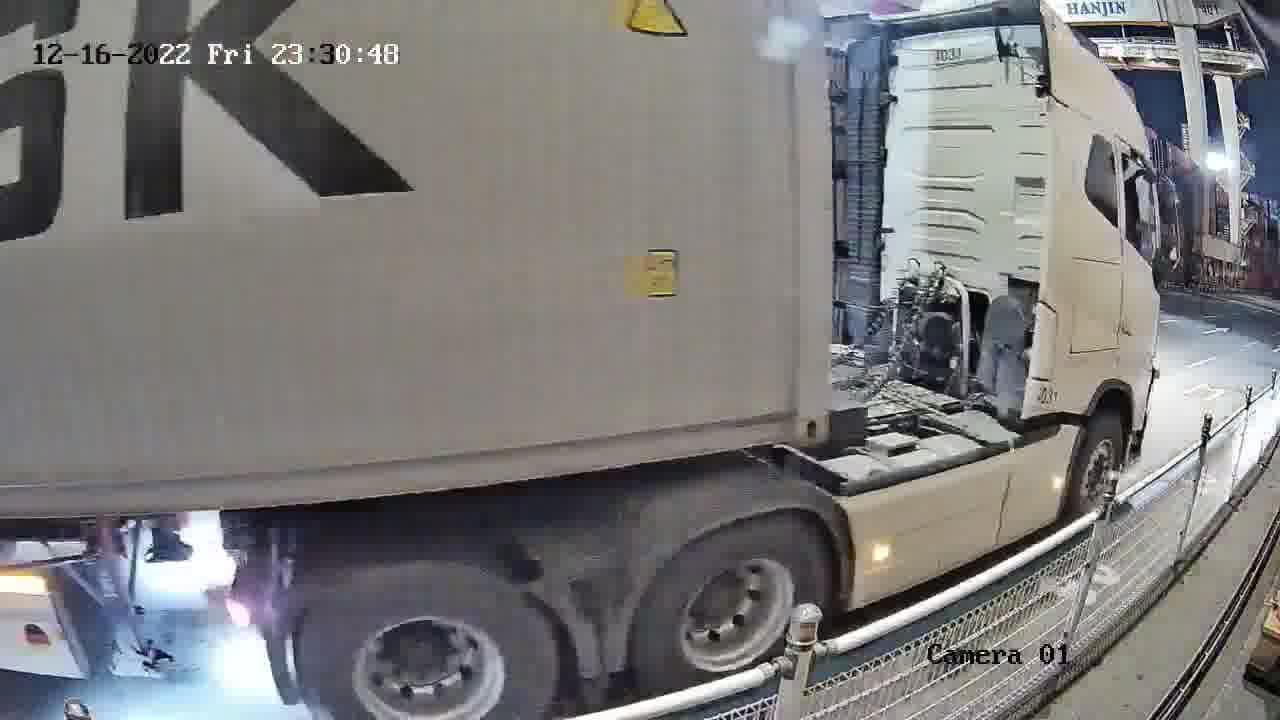Hole_R: (767, 378, 830, 442)
Tire: (297, 569, 560, 718), (632, 515, 842, 695)
